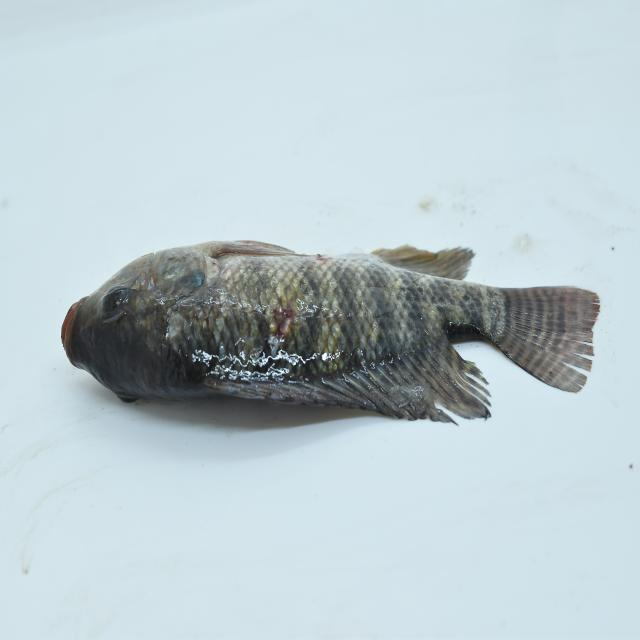Columnaris Disease: (45, 225, 608, 442)
